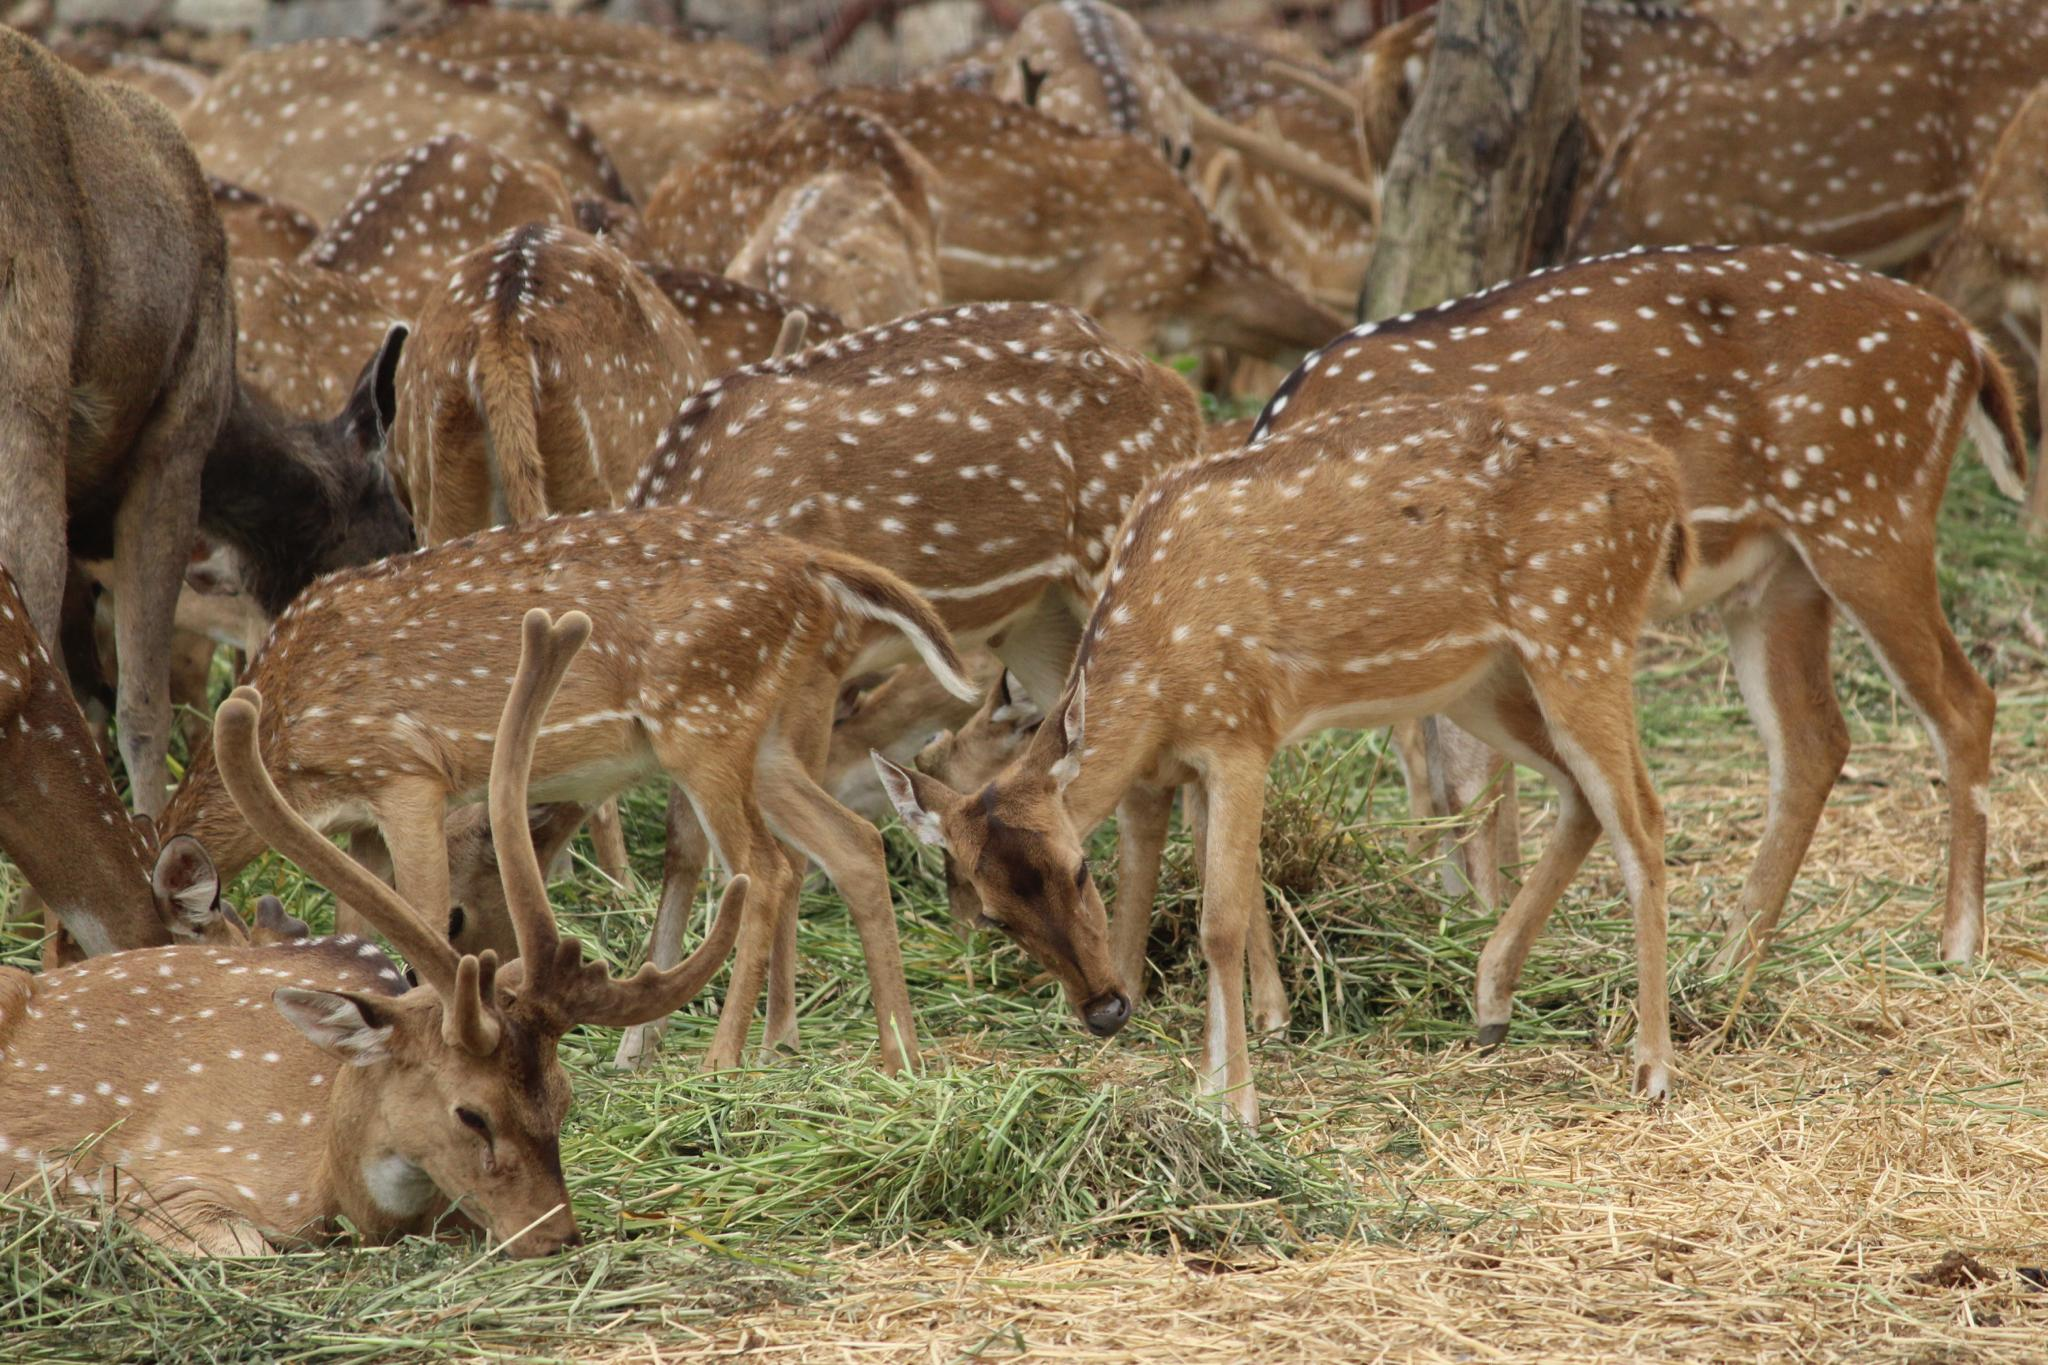Deer: (876, 395, 1693, 1127), (1252, 245, 2024, 970), (0, 609, 726, 1255), (247, 507, 962, 1069), (627, 303, 1203, 682), (809, 85, 1343, 360), (815, 87, 1341, 358), (390, 222, 708, 542), (177, 40, 624, 224), (644, 91, 936, 270), (298, 131, 573, 308), (474, 50, 769, 204), (1922, 81, 2046, 404), (230, 248, 419, 417), (209, 177, 318, 259)
